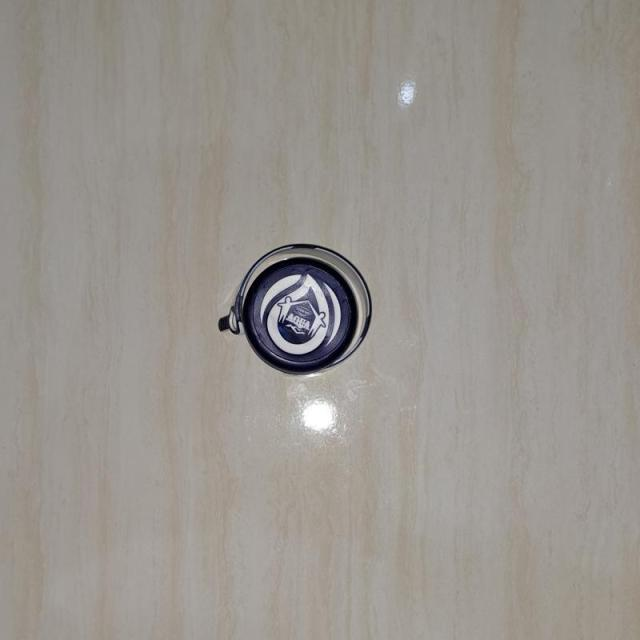Anorganik: (214, 236, 380, 384)
